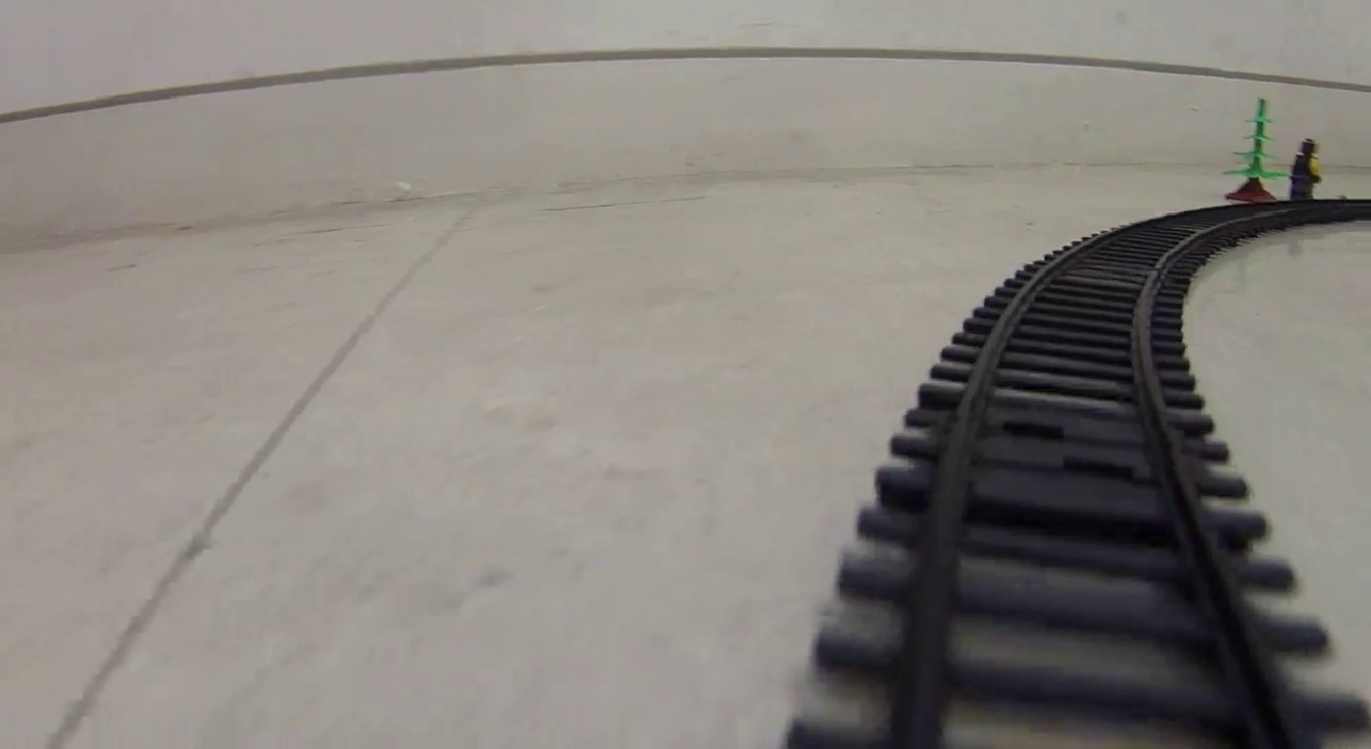people: (1292, 135, 1322, 199)
tree: (1222, 92, 1287, 200)
